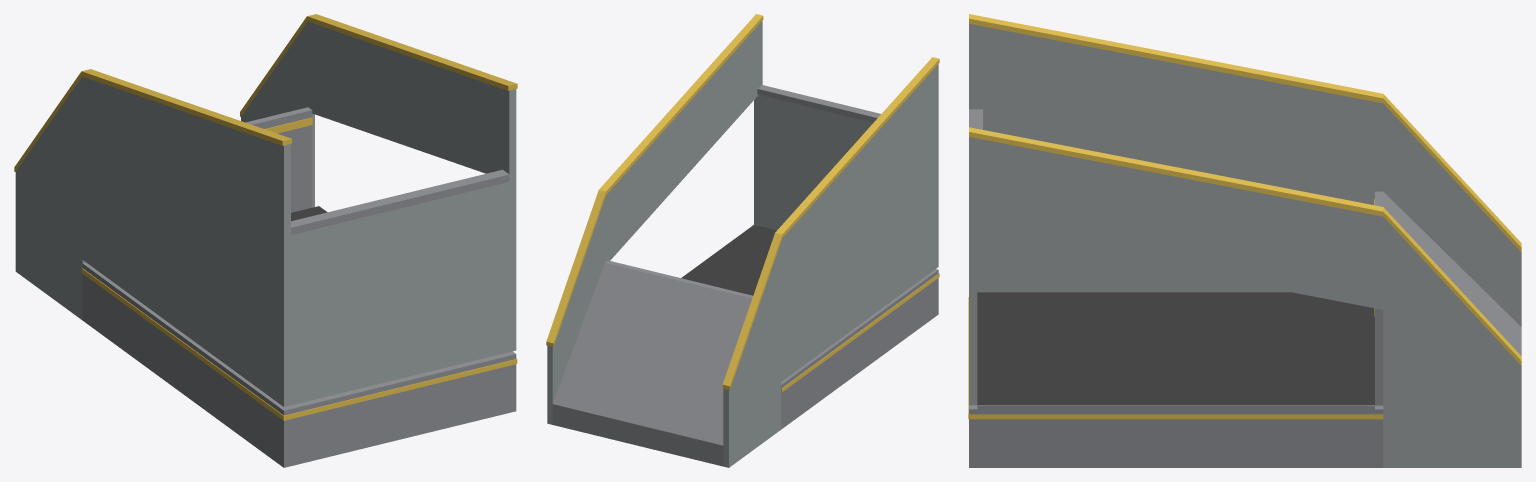
The model's file is grizzly_grate.glb.
3 views of the same model, side by side, from view 1: azimuth 30°, elevation 25°; view 2: azimuth 150°, elevation 25°; view 3: azimuth 270°, elevation 25° (orthographic). The views are drawn at different scales.
Visible parts, largest first — view 1: Frame; view 2: Frame, Belt; view 3: Frame, Belt.
Boxes of the visible parts, box(x1,y1,x2,y2) form: Frame: box(14, 14, 517, 467); Frame: box(546, 14, 939, 467); Belt: box(681, 225, 776, 295); Frame: box(968, 14, 1521, 467); Belt: box(977, 292, 1374, 405).
Bounding box in the file's own units: 2.02 × 2.69 × 4.
